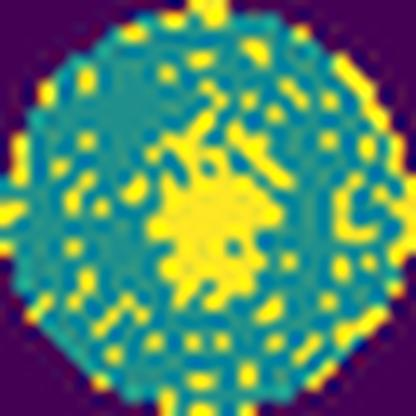Center: (150, 103, 302, 310)
